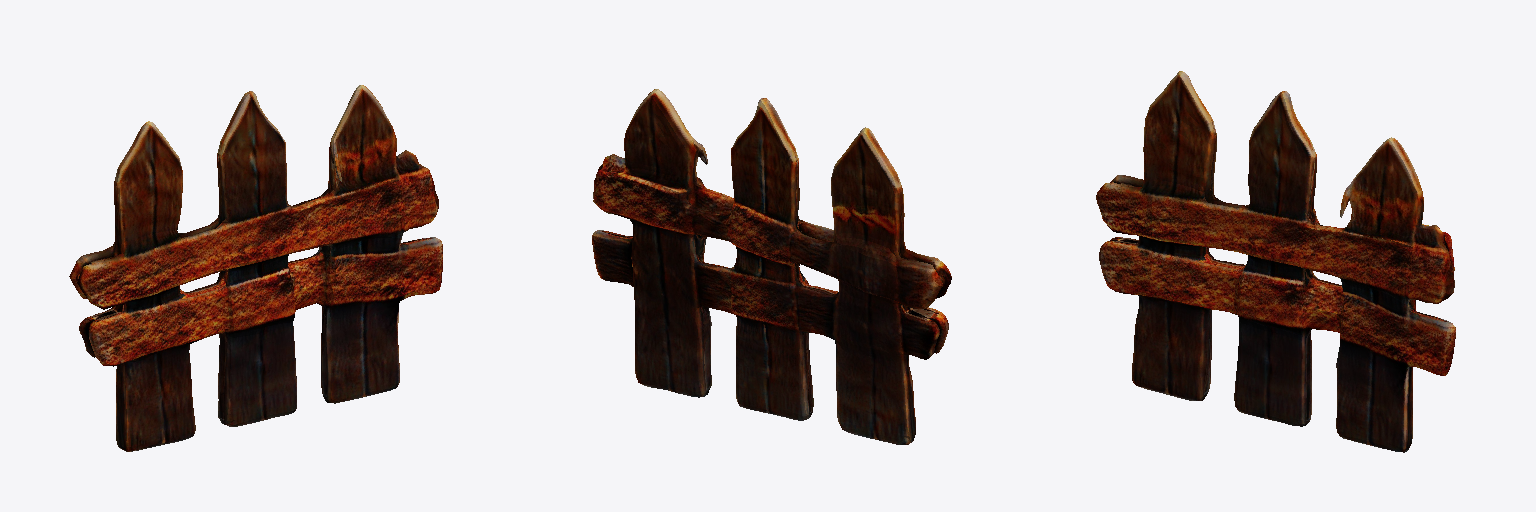
The picture shows the model from 3 angles: view 1: azimuth 30°, elevation 25°; view 2: azimuth 150°, elevation 25°; view 3: azimuth 330°, elevation 25°; orthographic projection.
Visible parts, largest first — view 1: mesh; view 2: mesh; view 3: mesh.
Part boxes in pixels (bbox=[...]): mesh: bbox=[69, 85, 442, 451]; mesh: bbox=[592, 89, 951, 444]; mesh: bbox=[1096, 71, 1455, 452].
Size of the model in its own units: 0.9981 by 0.8506 by 0.1191.
Materials: 1 (1 with a texture image).